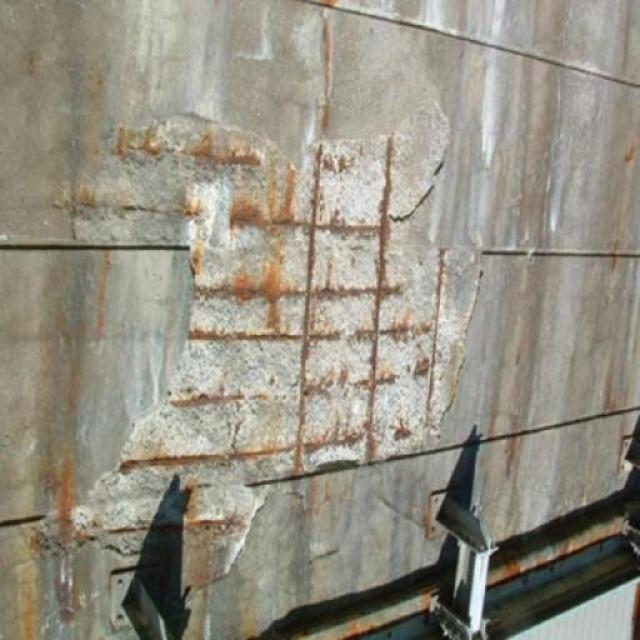D0w0: (75, 98, 480, 585)
